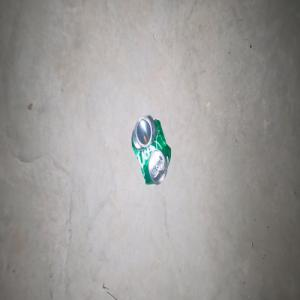SodaCan: (131, 114, 171, 184)
